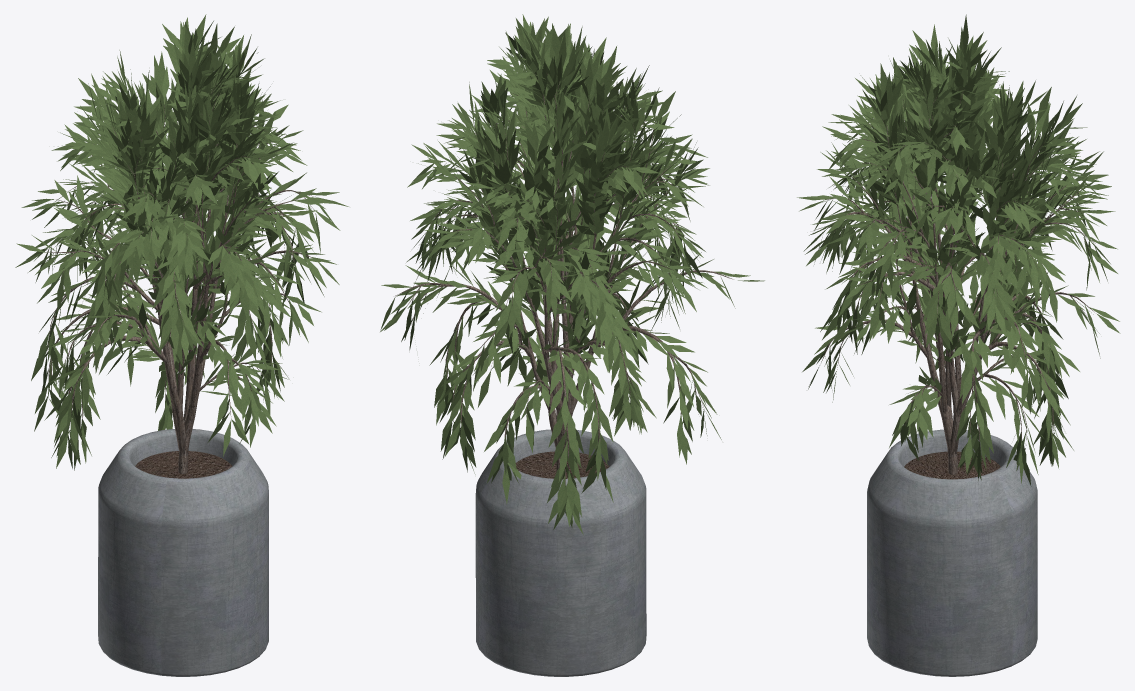
Rendered from potted-tree.glb.
3 views of the same model, side by side, from view 1: azimuth 30°, elevation 25°; view 2: azimuth 150°, elevation 25°; view 3: azimuth 270°, elevation 25° (orthographic).
Visible parts, largest first — view 1: Cylinder_Leaves_0, Cylinder_PotMaterial_0, tree_Trunk_0, Cylinder_DirtMat_0; view 2: Cylinder_Leaves_0, Cylinder_PotMaterial_0, tree_Trunk_0, Cylinder_DirtMat_0; view 3: Cylinder_Leaves_0, Cylinder_PotMaterial_0, tree_Trunk_0, Cylinder_DirtMat_0.
Boxes of the visible parts, box(x1,y1,x2,y2) form: Cylinder_Leaves_0: box(15, 14, 348, 470); Cylinder_PotMaterial_0: box(98, 429, 268, 676); tree_Trunk_0: box(46, 71, 315, 473); Cylinder_DirtMat_0: box(135, 451, 232, 478); Cylinder_Leaves_0: box(380, 14, 764, 534); Cylinder_PotMaterial_0: box(475, 429, 646, 676); tree_Trunk_0: box(395, 73, 733, 484); Cylinder_DirtMat_0: box(515, 451, 609, 478); Cylinder_Leaves_0: box(797, 14, 1120, 486); Cylinder_PotMaterial_0: box(867, 429, 1037, 676); tree_Trunk_0: box(821, 89, 1095, 474); Cylinder_DirtMat_0: box(904, 451, 1000, 479).
Bounding box in the file's own units: 0.9302 × 1.9 × 0.912.
Materials: 4 (4 with a texture image).
